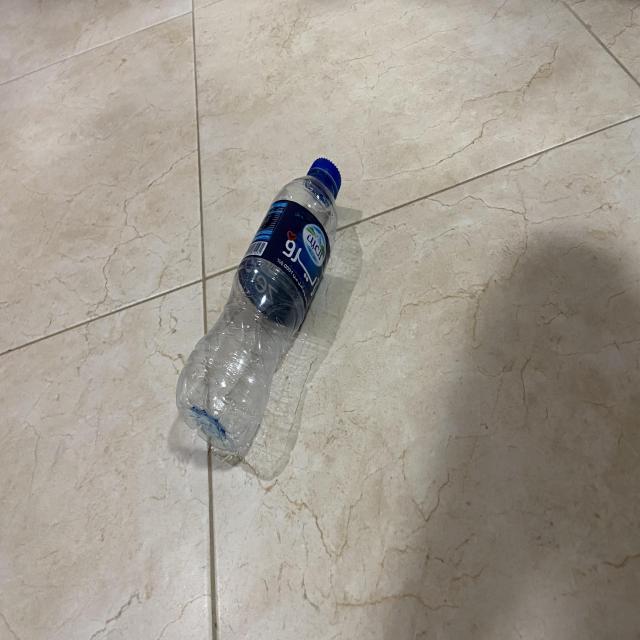plastic: (173, 156, 340, 462)
